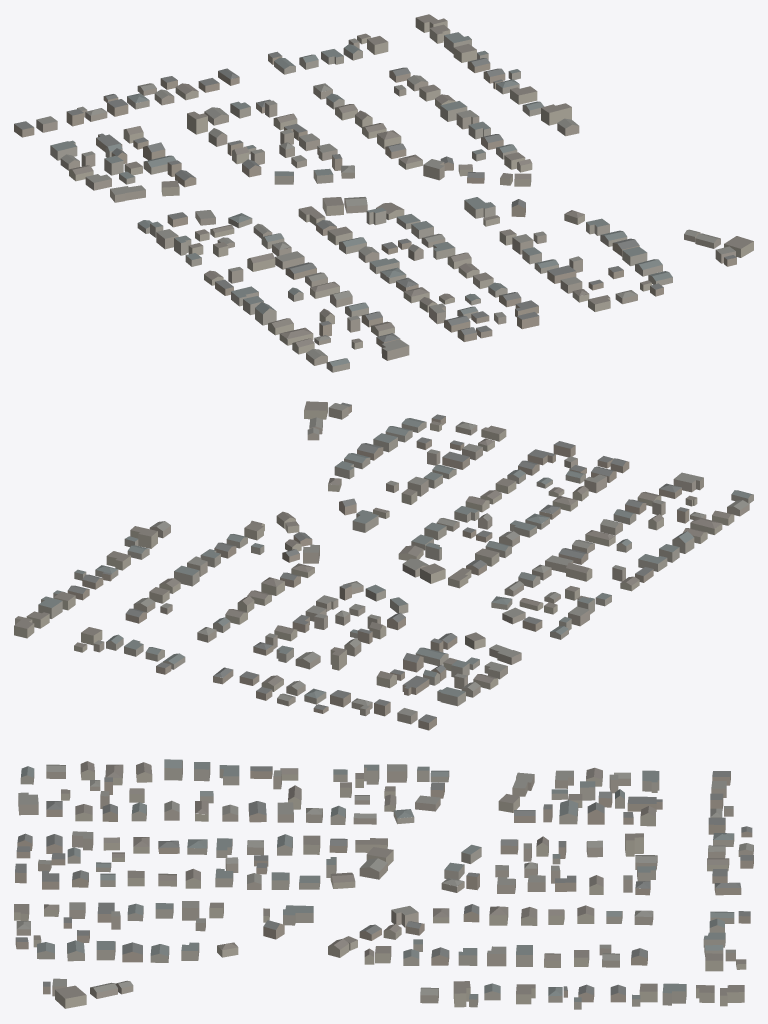
Rendered from 7bfbf60da8c6-chunk-1201_11842.glb.
3 views of the same model, one above another, from view 1: azimuth 30°, elevation 25°; view 2: azimuth 150°, elevation 25°; view 3: azimuth 270°, elevation 25° (orthographic). The views are drawn at different scales.
Visible parts, largest first — view 1: no part large enough to name; view 2: no part large enough to name; view 3: building_50950, building_59289, building_95700, building_14527, building_20829, building_54770, building_163737, building_107940, building_122260, building_93778, building_139005.
Part boxes in pixels (bbox=[...]): building_50950: bbox=[55, 985, 86, 1008]; building_59289: bbox=[283, 905, 313, 925]; building_95700: bbox=[662, 983, 686, 1005]; building_14527: bbox=[359, 858, 387, 879]; building_20829: bbox=[627, 796, 662, 811]; building_54770: bbox=[720, 985, 744, 1006]; building_163737: bbox=[18, 792, 38, 815]; building_107940: bbox=[391, 906, 418, 927]; building_122260: bbox=[559, 800, 578, 824]; building_93778: bbox=[512, 772, 534, 796]; building_139005: bbox=[453, 981, 470, 1007].
Size of the model in its own units: 297 by 10.03 by 390.
